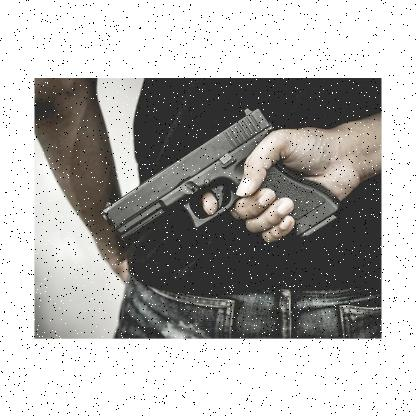gun: (102, 105, 340, 245)
